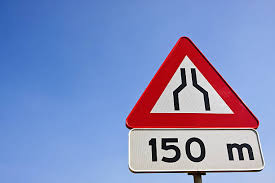Narrow_road: (121, 36, 263, 132)
